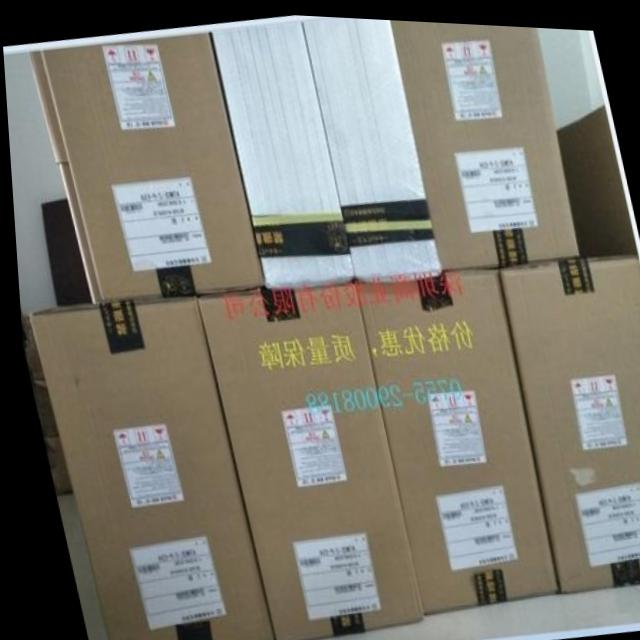box: (26, 293, 266, 640), (193, 280, 416, 640), (351, 262, 551, 610), (40, 29, 261, 301), (495, 249, 640, 587), (391, 16, 576, 266), (210, 17, 351, 288), (302, 14, 438, 280), (554, 99, 636, 250), (57, 162, 97, 302), (27, 49, 67, 164)
